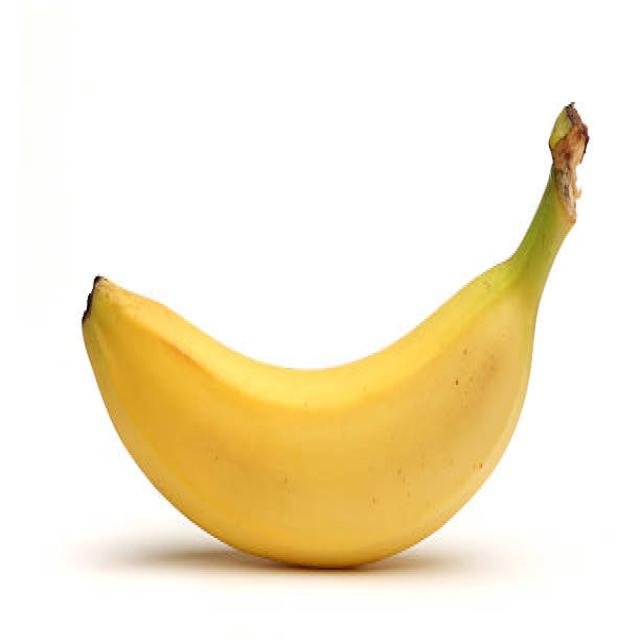banana: (79, 174, 578, 568)
